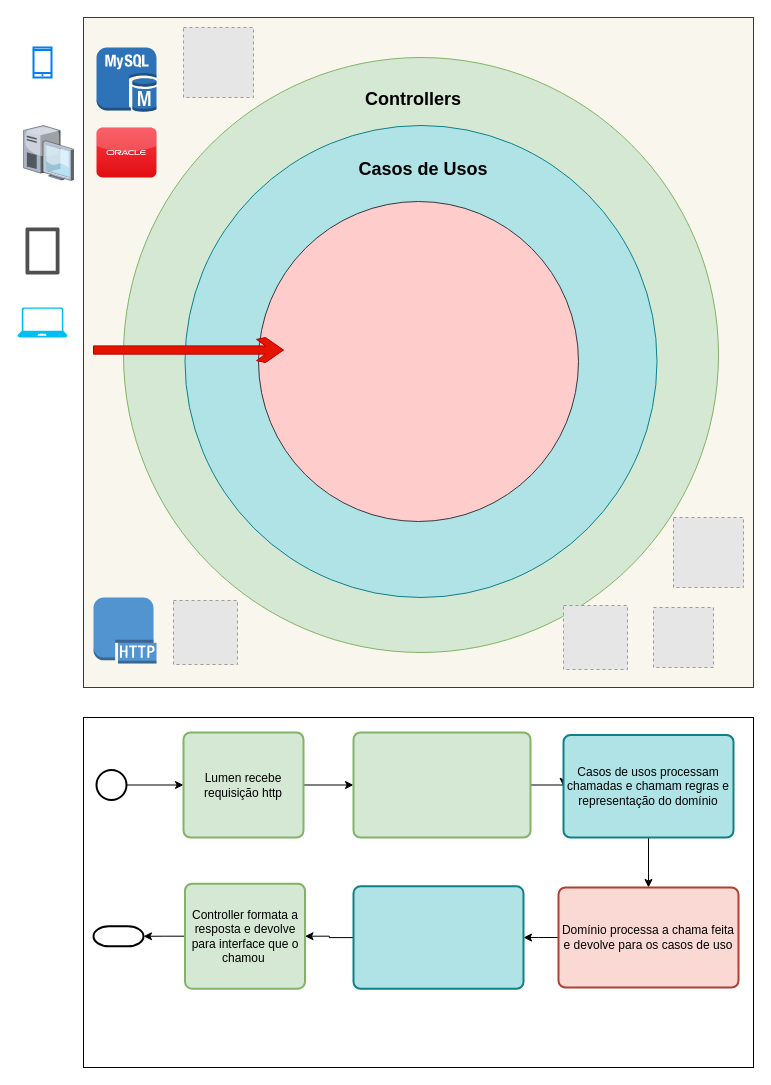
The diagram is 771 pixels wide and 1085 high, and some of its shapes have lost their labels. Grey dashed boxes stand in for pictures. Each missing label, with the centre of its shape:
"Caso de uso apenas repassa o retorno (quando há)" goes at point (438, 937).
"Controllers do Lumen Instanciam casos de usos e injetam dependências necessárias" goes at point (441, 784).
"Domínio" goes at point (418, 361).
